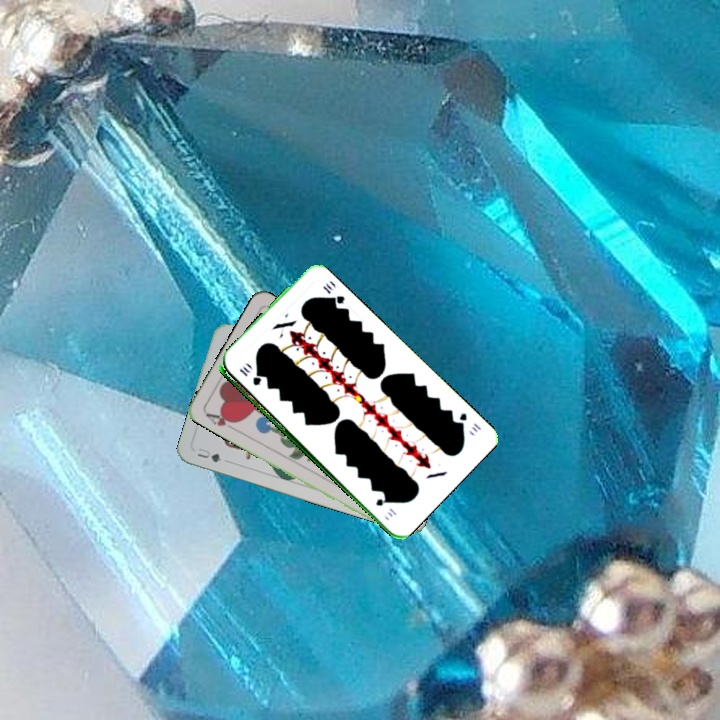G10: (453, 409, 483, 434), (235, 362, 263, 388)
GU: (193, 444, 224, 465)
HA: (202, 409, 241, 433)
